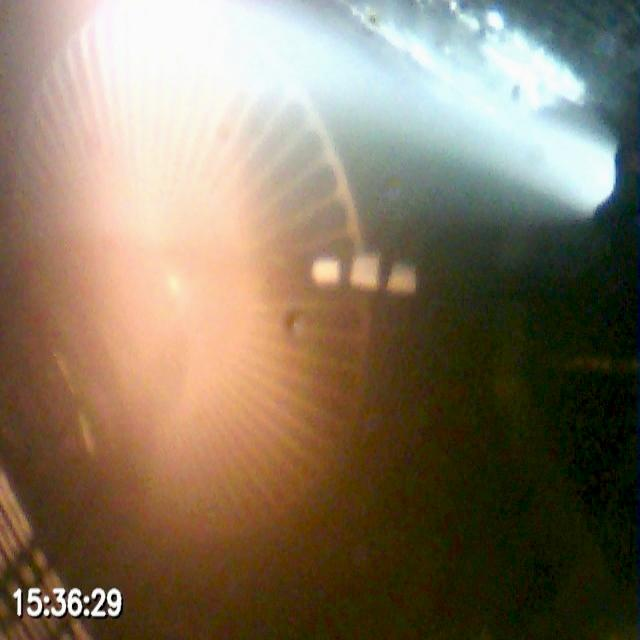white-dots: (307, 248, 419, 296)
